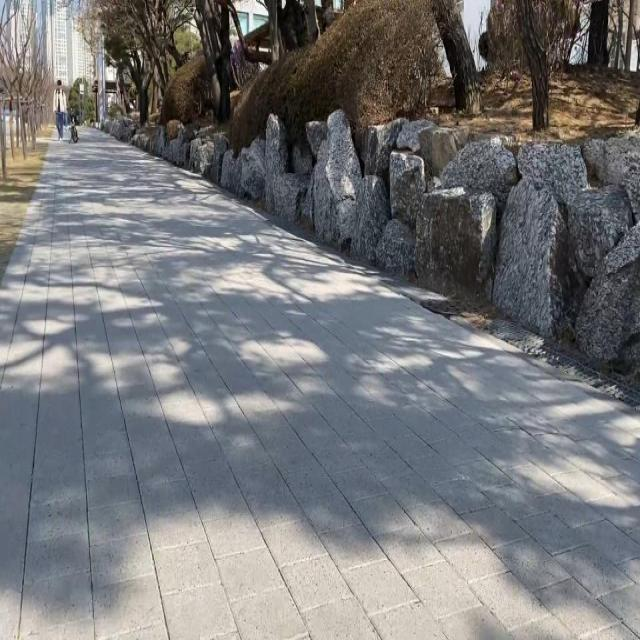sidewalk: (0, 127, 640, 638)
